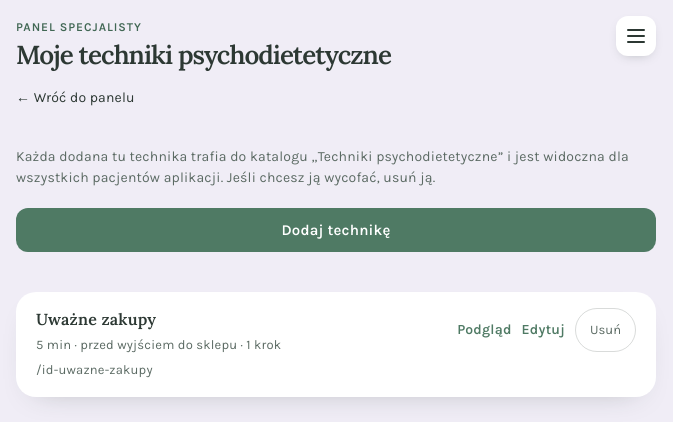
Test: the list › deletes only after a second tap
The width and height of the screenshot is (673, 422).
Click the button "Usuń" at (606, 330), box [575,308,636,352]
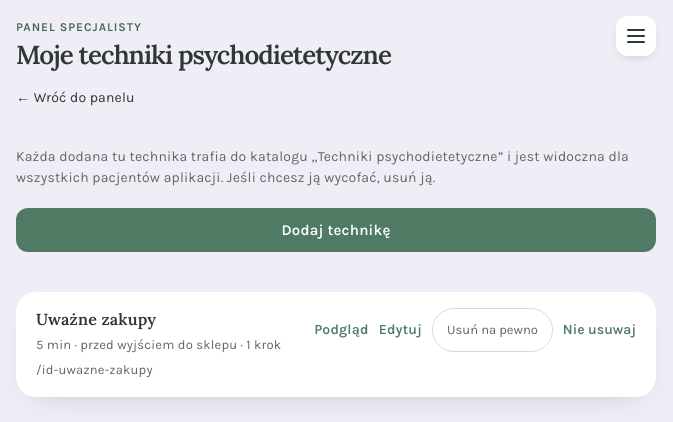
Click the button "Usuń na pewno" at (492, 330), box [432,308,553,352]
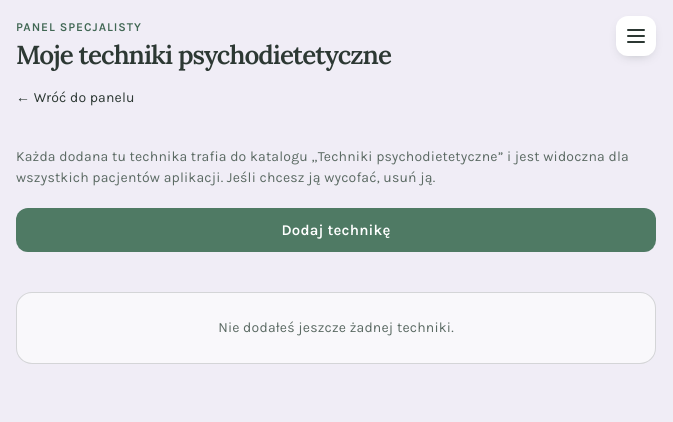
Now the text "Uważne zakupy" is gone
